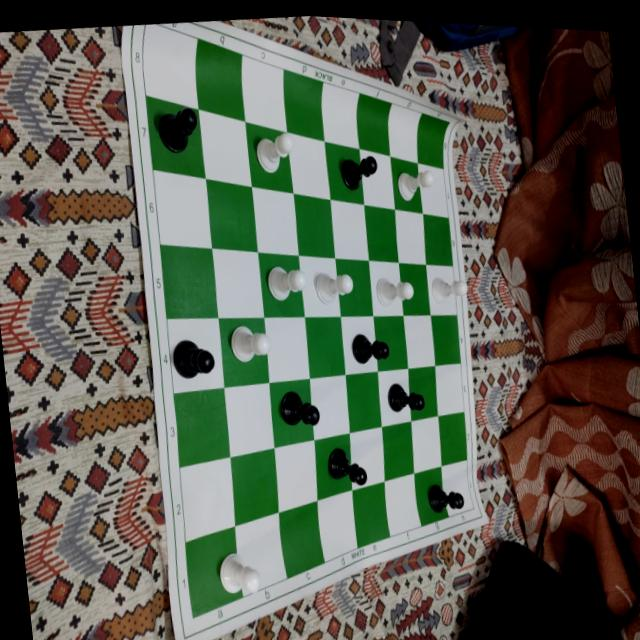board: (134, 23, 485, 640)
square: (184, 527, 242, 618), (145, 96, 204, 178), (178, 457, 233, 542), (152, 170, 210, 249), (172, 388, 229, 467), (233, 513, 286, 597), (145, 24, 197, 109), (165, 318, 223, 394), (159, 244, 217, 319), (197, 109, 250, 186), (197, 39, 244, 122), (222, 383, 273, 458), (205, 179, 257, 252), (229, 448, 277, 526), (211, 248, 263, 319), (277, 501, 323, 578), (241, 55, 286, 133), (218, 318, 268, 388), (244, 121, 292, 193), (250, 187, 297, 256), (273, 440, 316, 513), (256, 252, 304, 317), (268, 379, 313, 448), (263, 317, 309, 384), (282, 68, 323, 141), (286, 132, 329, 200), (316, 490, 356, 562), (292, 193, 334, 258), (308, 375, 349, 441), (297, 256, 339, 318), (312, 433, 350, 501), (351, 482, 389, 549), (303, 317, 344, 379), (321, 81, 358, 149), (323, 142, 363, 204), (383, 473, 420, 537), (329, 200, 368, 260), (348, 426, 383, 490), (344, 371, 380, 433), (334, 259, 372, 317), (339, 316, 376, 375), (413, 466, 448, 526), (358, 149, 393, 209), (363, 205, 398, 263), (358, 93, 389, 156), (380, 421, 412, 481), (377, 369, 410, 427), (368, 260, 402, 316), (439, 460, 472, 517), (372, 316, 406, 371), (389, 103, 420, 163), (389, 156, 421, 214), (393, 209, 425, 264), (410, 416, 440, 474), (417, 113, 448, 169), (402, 315, 434, 369), (416, 163, 447, 218), (397, 262, 429, 315), (407, 366, 437, 421), (437, 412, 465, 467), (425, 264, 455, 315), (422, 214, 451, 266), (429, 315, 459, 365), (434, 364, 462, 416)
